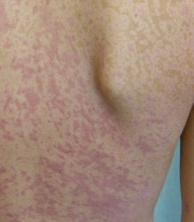SJS-TEN: (0, 5, 156, 222)
